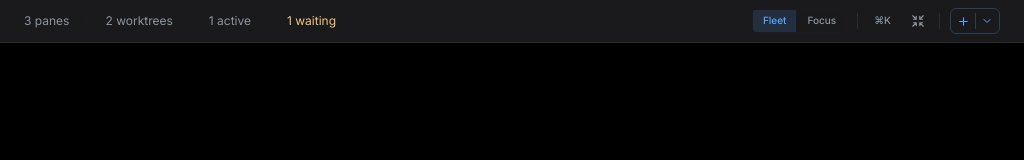
ResourceBar attention stat › clicking the stat opens the peek instead of navigating
Click the button with test id "resource-attention-stat" at (312, 21), box left=287, top=13, right=336, bottom=29
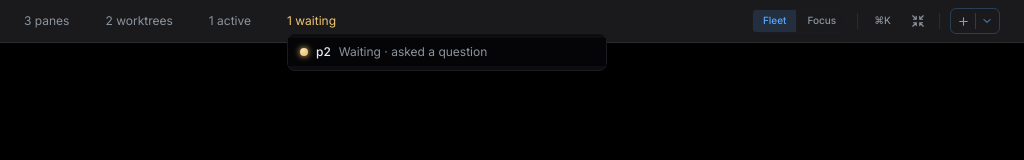
Expected: the menu named "Waiting agents" is shown, left=287, top=33, right=607, bottom=71
